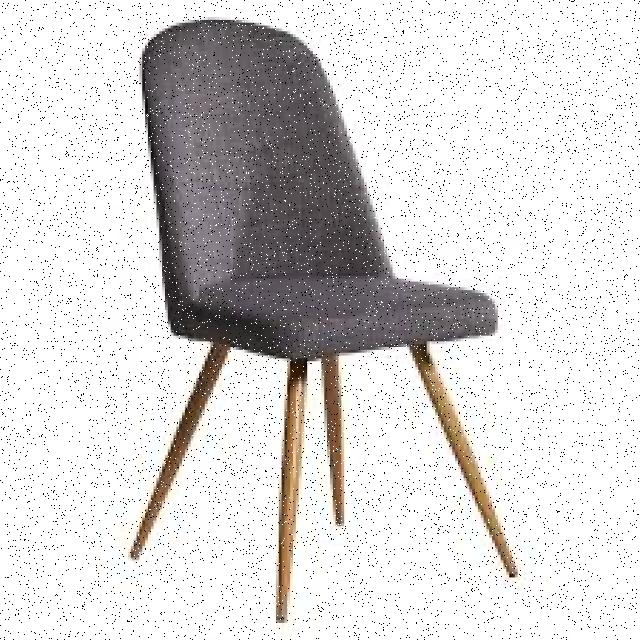bottle: (128, 13, 520, 624)
